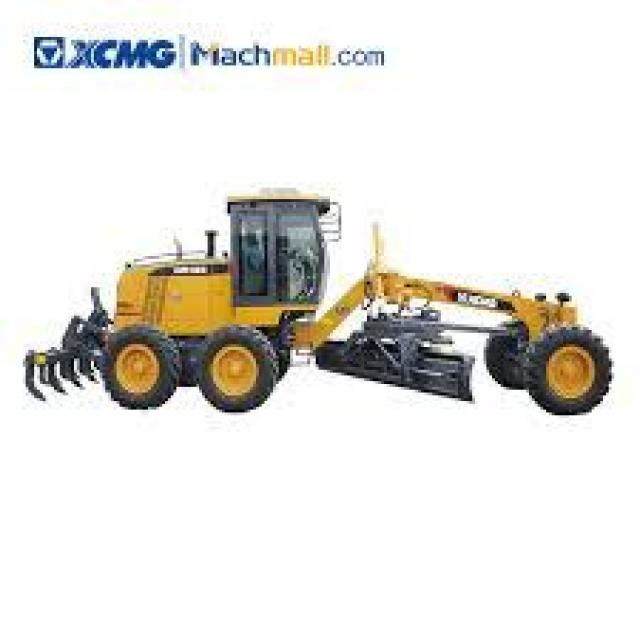Grader: (11, 171, 618, 441)
